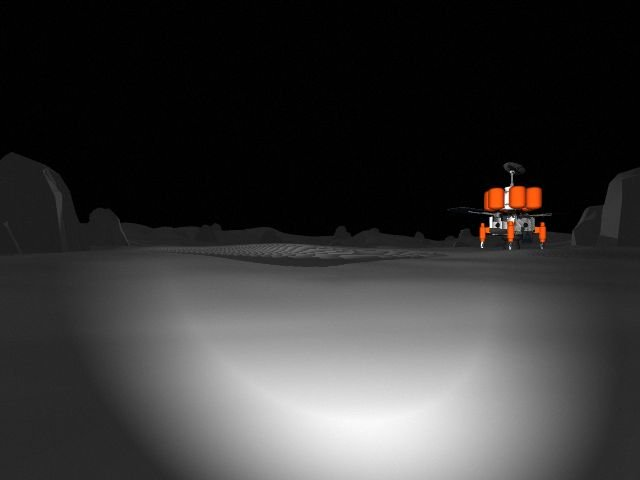homebase: (447, 160, 576, 252)
